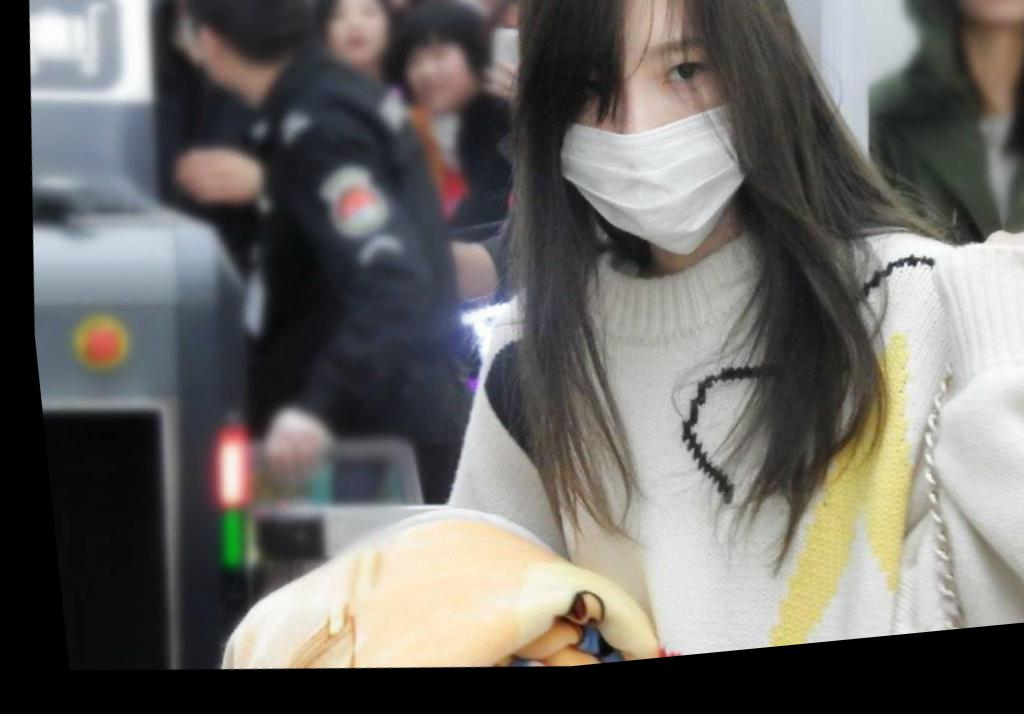NONE: (400, 50, 470, 120), (937, 1, 1024, 57), (324, 4, 392, 73)
WRONG: (523, 13, 774, 286)
